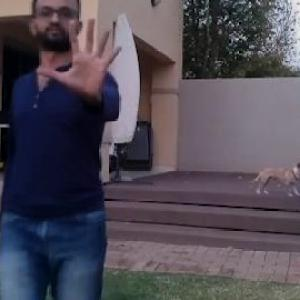follow_hand: (34, 13, 126, 108)
